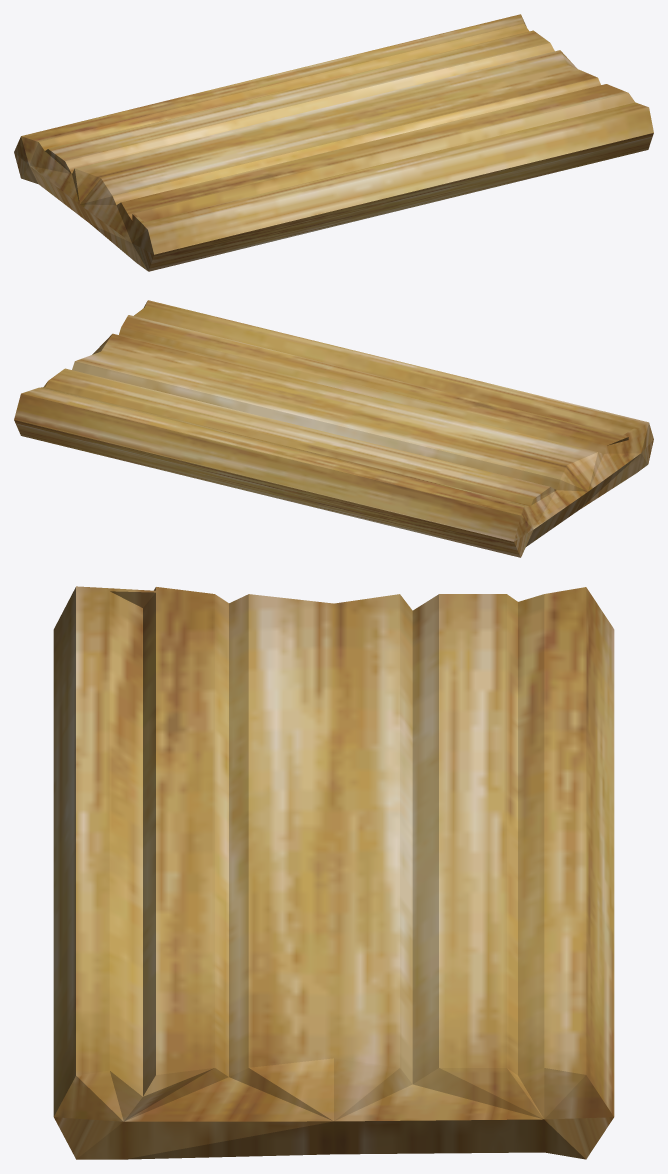
Rendered from mon_bri.dae.
The picture shows the model from 3 angles, top to bottom: view 1: azimuth 30°, elevation 25°; view 2: azimuth 150°, elevation 25°; view 3: azimuth 270°, elevation 25°; orthographic projection. The views are drawn at different scales.
Parts seen in each view (by area): view 1: m0; view 2: m0; view 3: m0.
Boxes of the visible parts, x1,y1,x2,y2 form: m0: (14, 14, 653, 271); m0: (14, 300, 653, 557); m0: (53, 586, 614, 1159).
Size of the model in its own units: 629 by 50 by 300.
